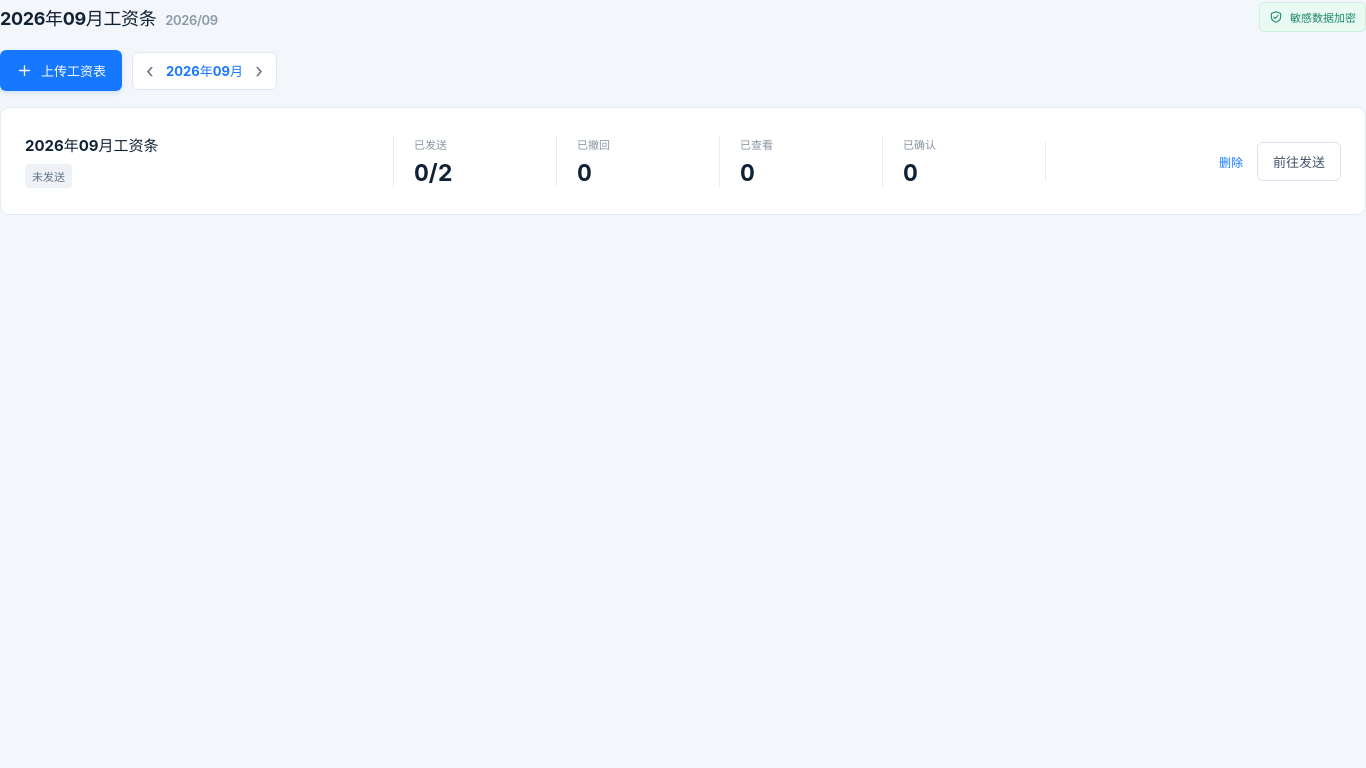
Test: salary management › deletes an untouched draft through an in-app confirmation dialog
Click the button "删除" at {"x": 1231, "y": 161}, box 1219,150 -> 1243,172
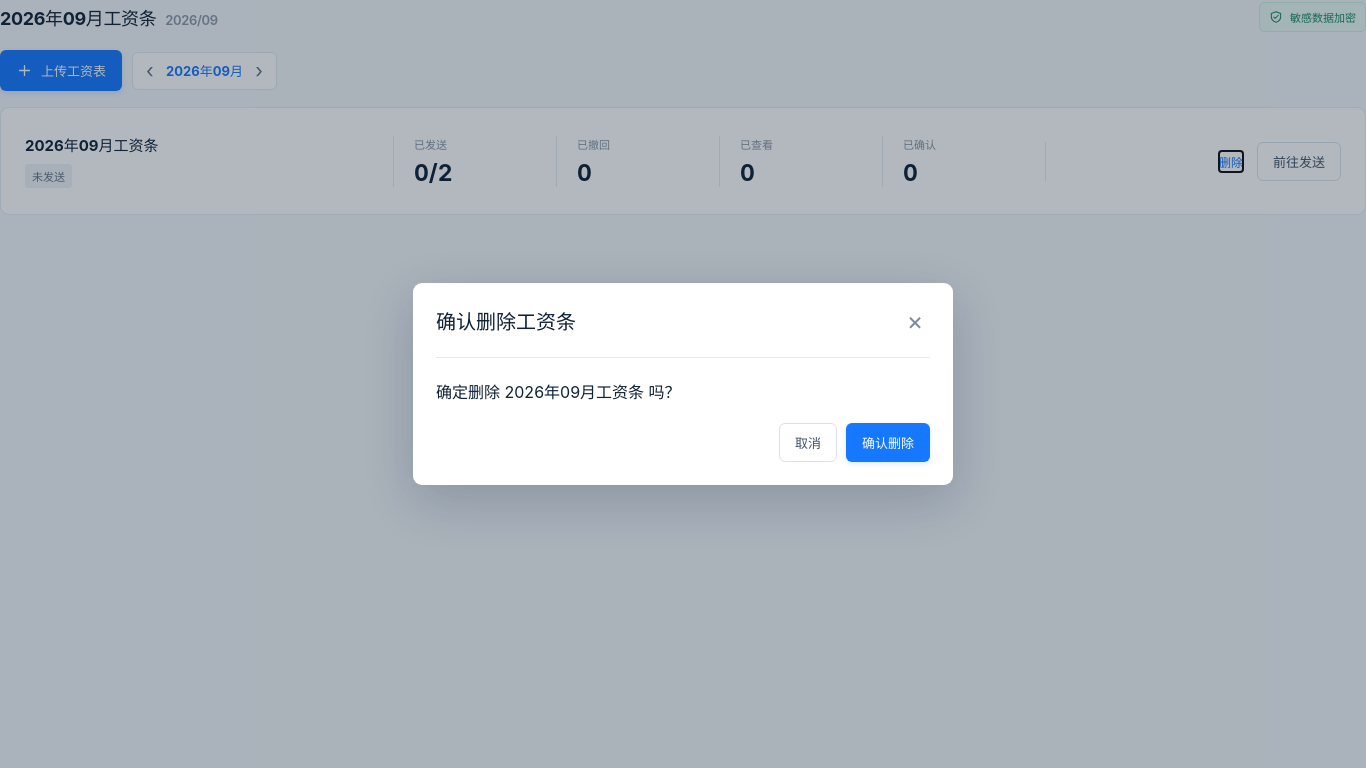
Now the heading "确认删除工资条" is shown, box 436,306 -> 576,335
Click the button "确认删除" at {"x": 888, "y": 442}, box 846,423 -> 930,462
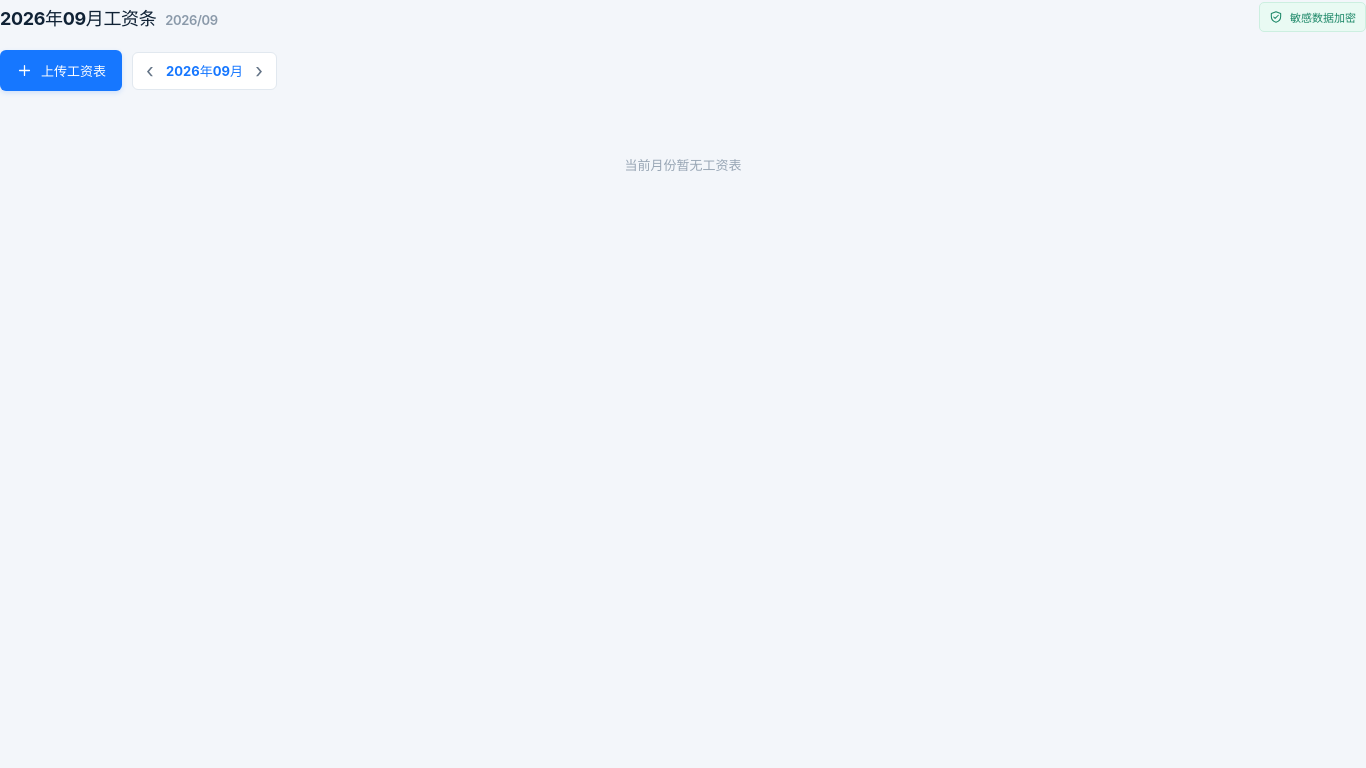
Now the button "删除" is gone
Now the text "当前月份暂无工资表" is shown, box 624,157 -> 742,173
